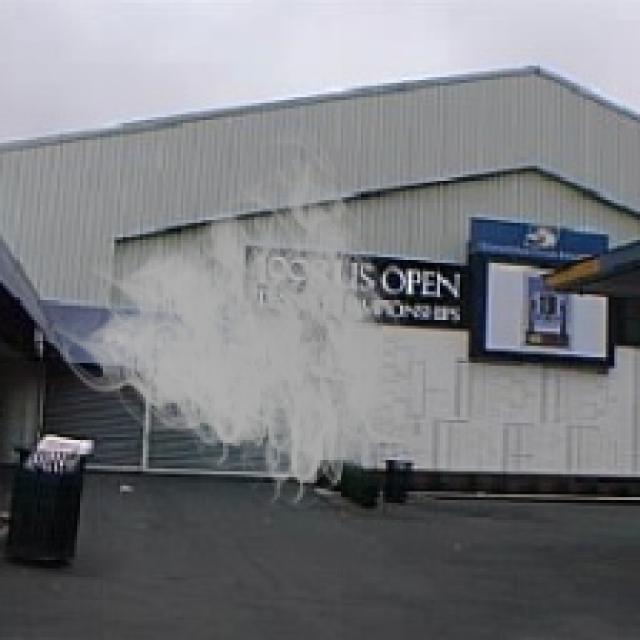Smoke: (51, 123, 426, 520)
